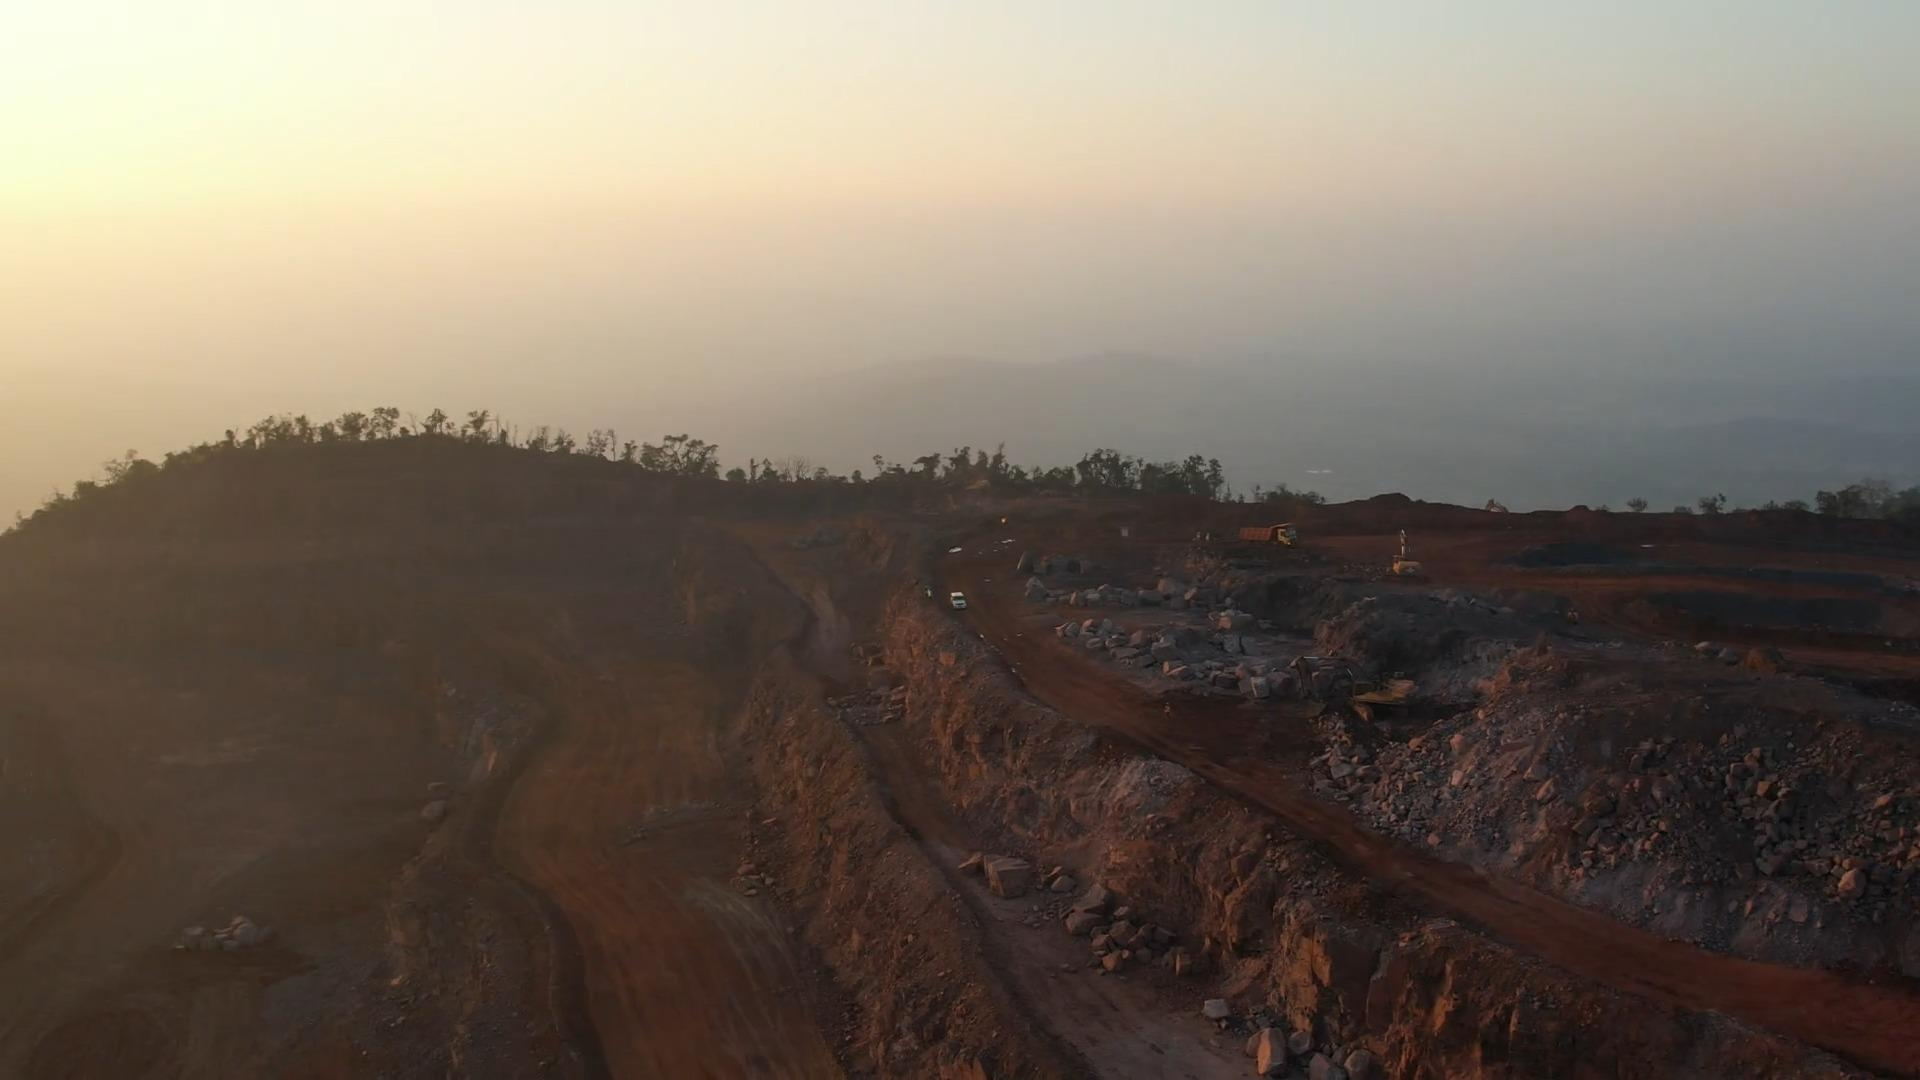excavator: (1296, 655, 1418, 716), (1393, 529, 1425, 579)
